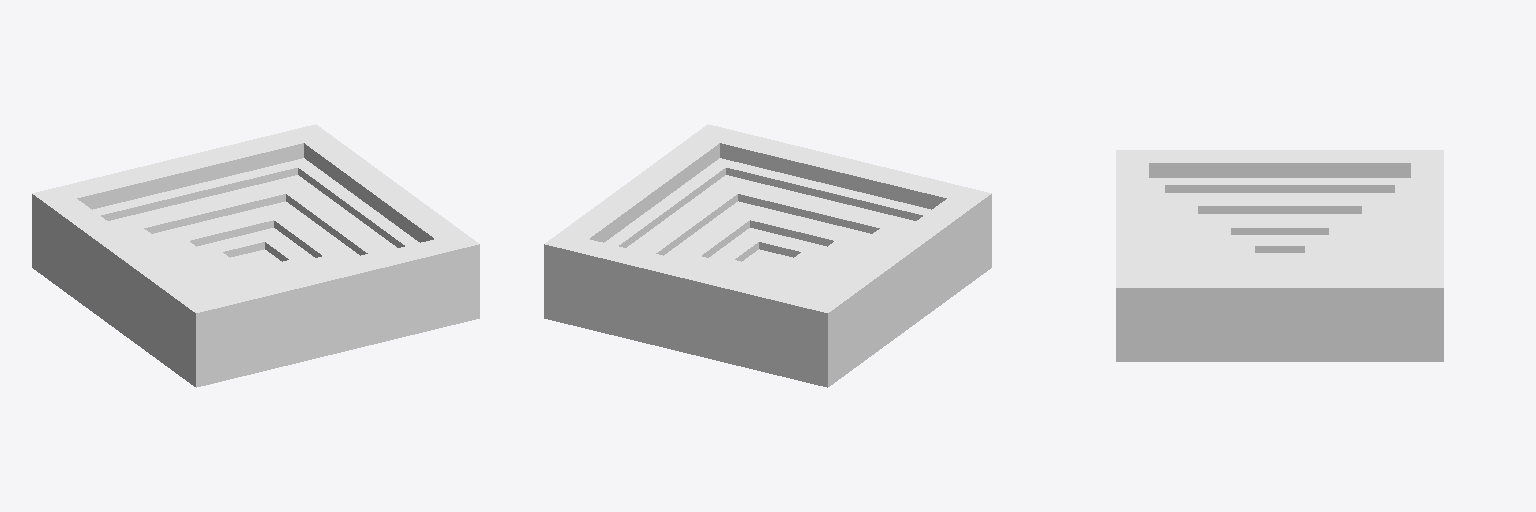
Rendered from cubito_hielo_lento.obj.
The picture shows the model from 3 angles: view 1: azimuth 30°, elevation 25°; view 2: azimuth 150°, elevation 25°; view 3: azimuth 270°, elevation 25°; orthographic projection.
Visible parts, largest first — view 1: object 1; view 2: object 1; view 3: object 1.
Boxes of the visible parts, <box> form: object 1: <box>32,124,479,387</box>; object 1: <box>544,124,991,387</box>; object 1: <box>1116,150,1443,361</box>.
Bounding box in the file's own units: 4 × 1 × 4.